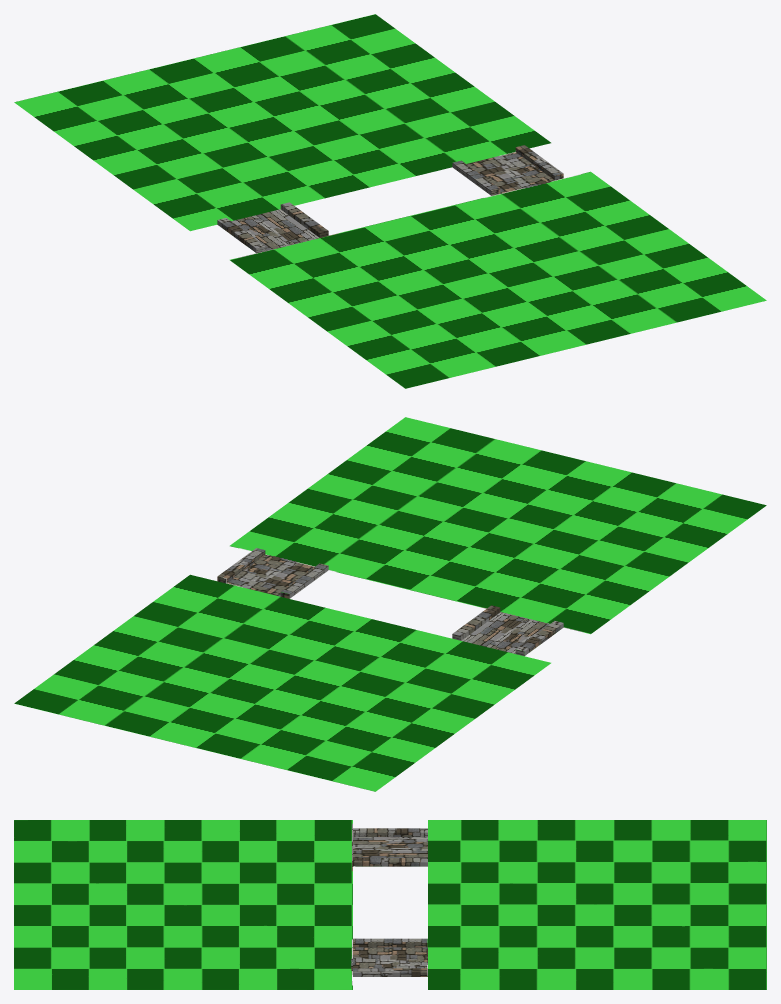
The model's file is ground.fbx.
3 views of the same model, one above another, from view 1: azimuth 30°, elevation 25°; view 2: azimuth 150°, elevation 25°; view 3: azimuth 270°, elevation 25° (orthographic). The views are drawn at different scales.
Visible parts, largest first — view 1: Plane.001; view 2: Plane.001; view 3: Plane.001.
Boxes of the visible parts, x1,y1,x2,y2 form: Plane.001: (14,14,766,388); Plane.001: (14,417,766,791); Plane.001: (14,820,766,989).
Bounding box in the file's own units: 8 × 15 × 0.1.
